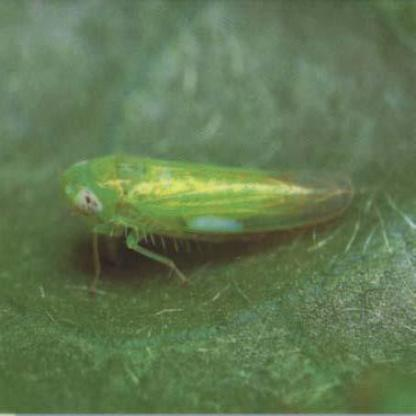Green-Leafhopper: (56, 149, 354, 300)
